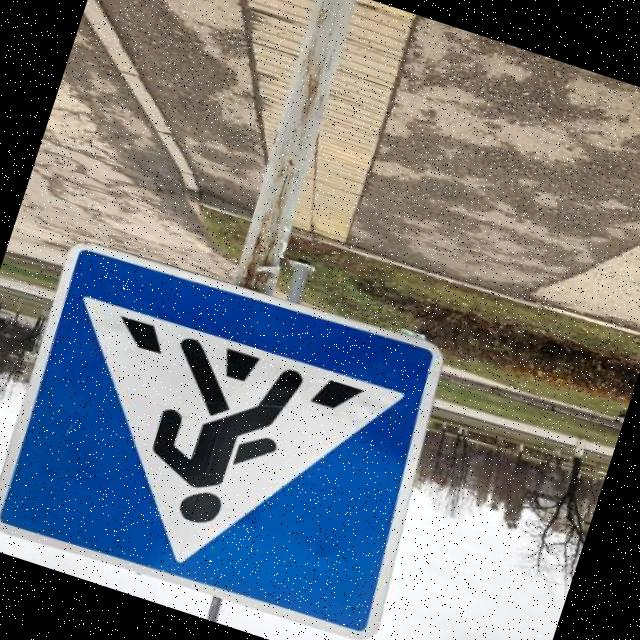crosswalk: (0, 217, 471, 640)
